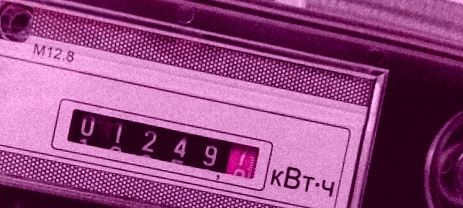0: (77, 111, 97, 139)
1: (109, 118, 126, 145)
2: (138, 127, 158, 155)
4: (170, 132, 189, 159)
7: (234, 141, 252, 169)
9: (198, 141, 219, 169)
screen: (46, 95, 277, 195)
